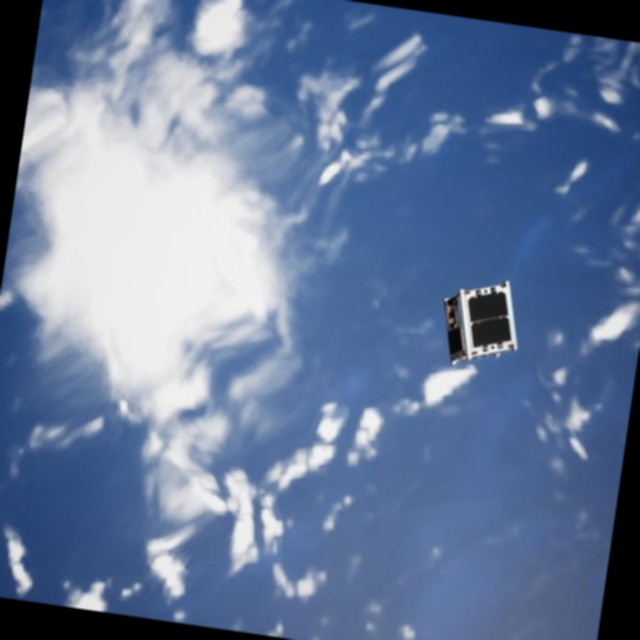medium_debris: (429, 269, 536, 380)
